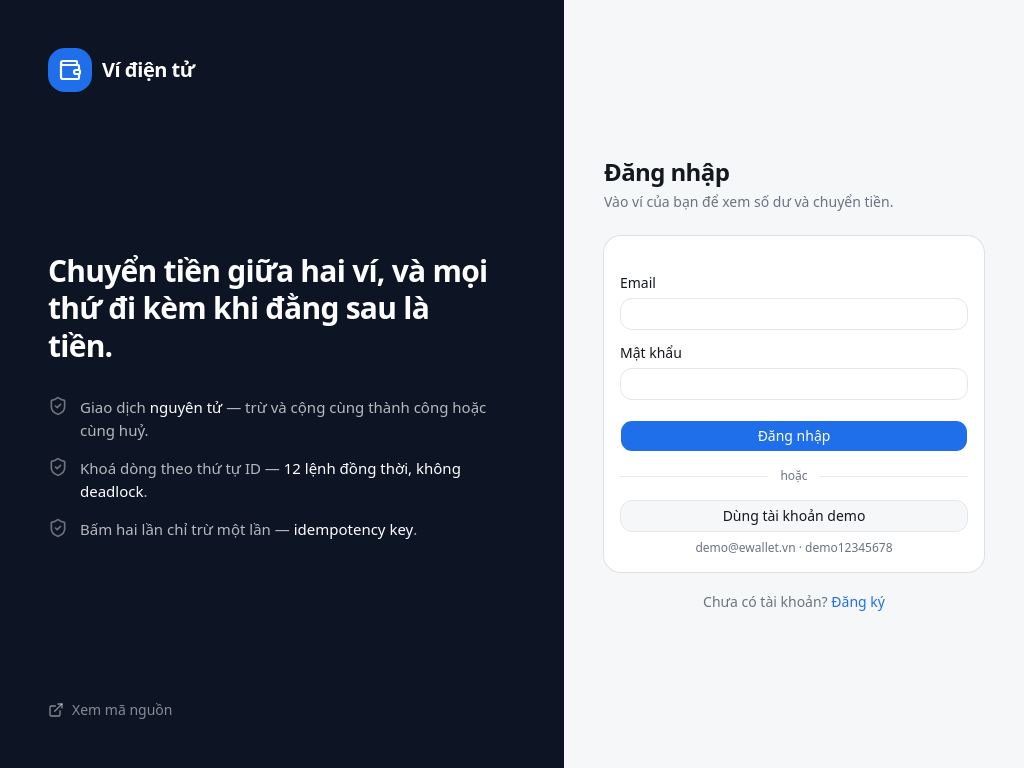
Scenario: dang nhap › dang nhap dung thi vao thang man vi
The width and height of the screenshot is (1024, 768).
Type "anh@vieted.com" into the field labelled "Email" at [794, 314], box 620,298 -> 968,330
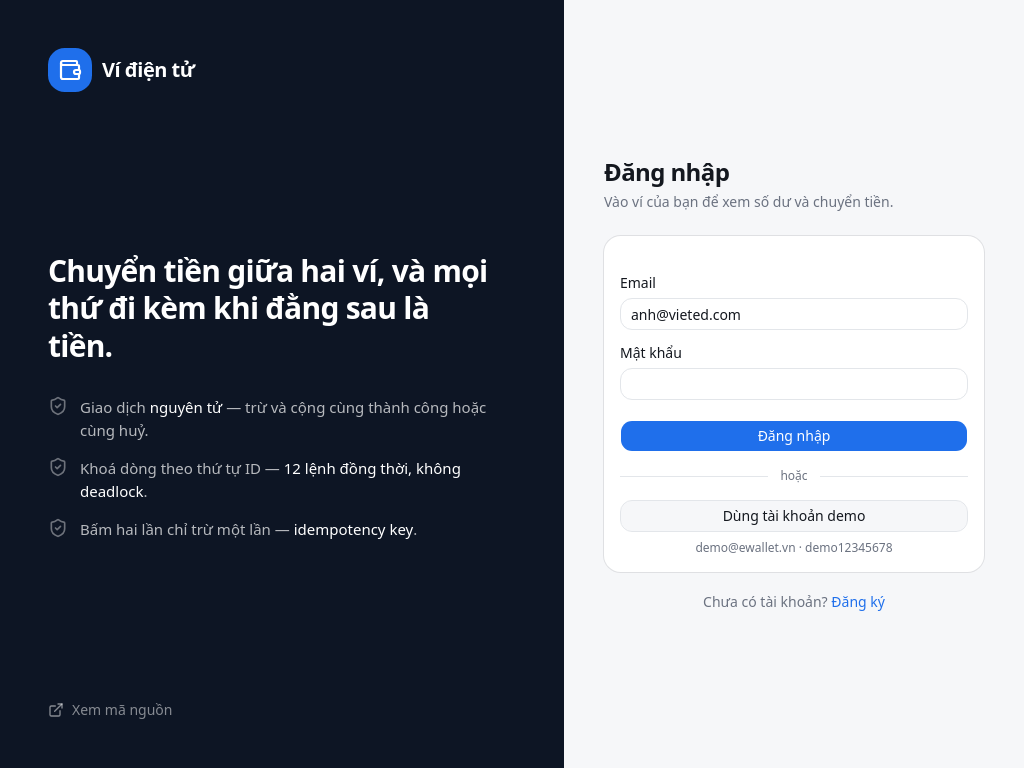
Type "matkhau12345" into the password field labelled "Mật khẩu" at [794, 384], box 620,368 -> 968,400
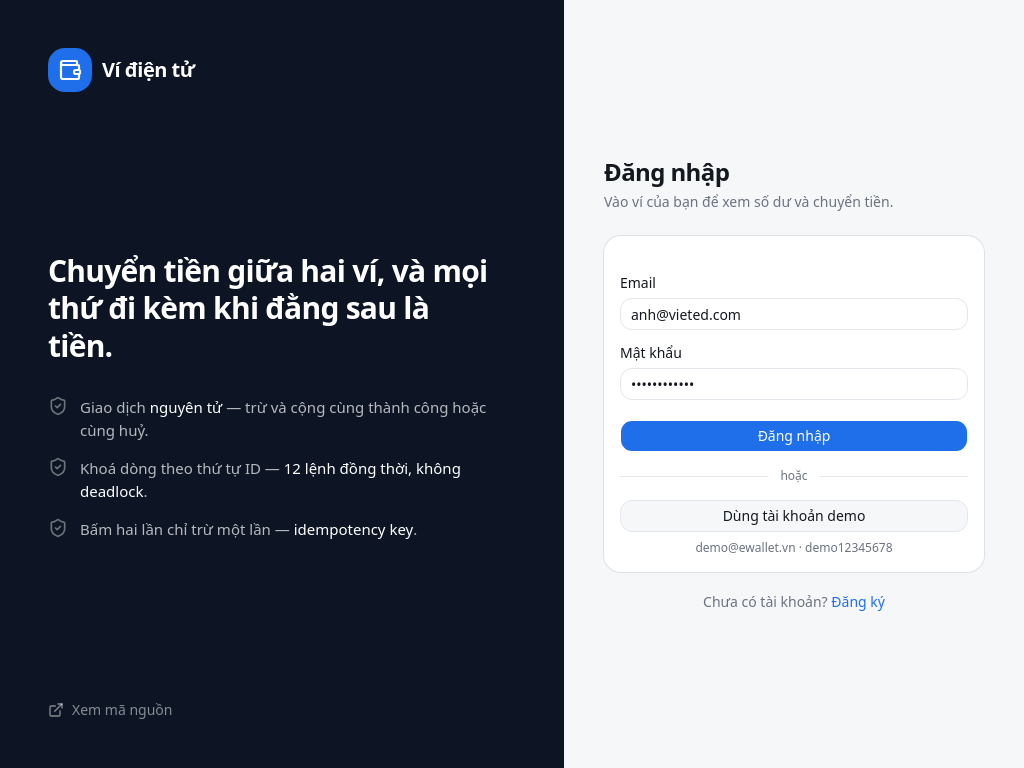
Click the button "Đăng nhập" at [794, 436], box 620,420 -> 968,452
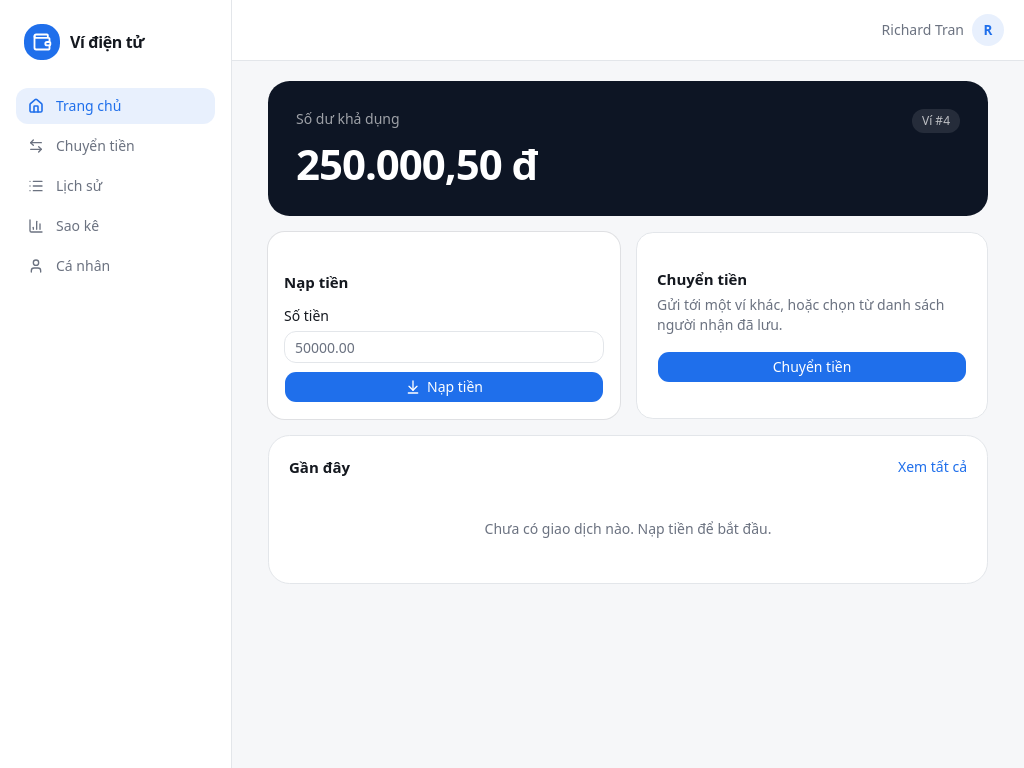
Now the text "250.000,50 đ" is shown, box 296,135 -> 538,192
